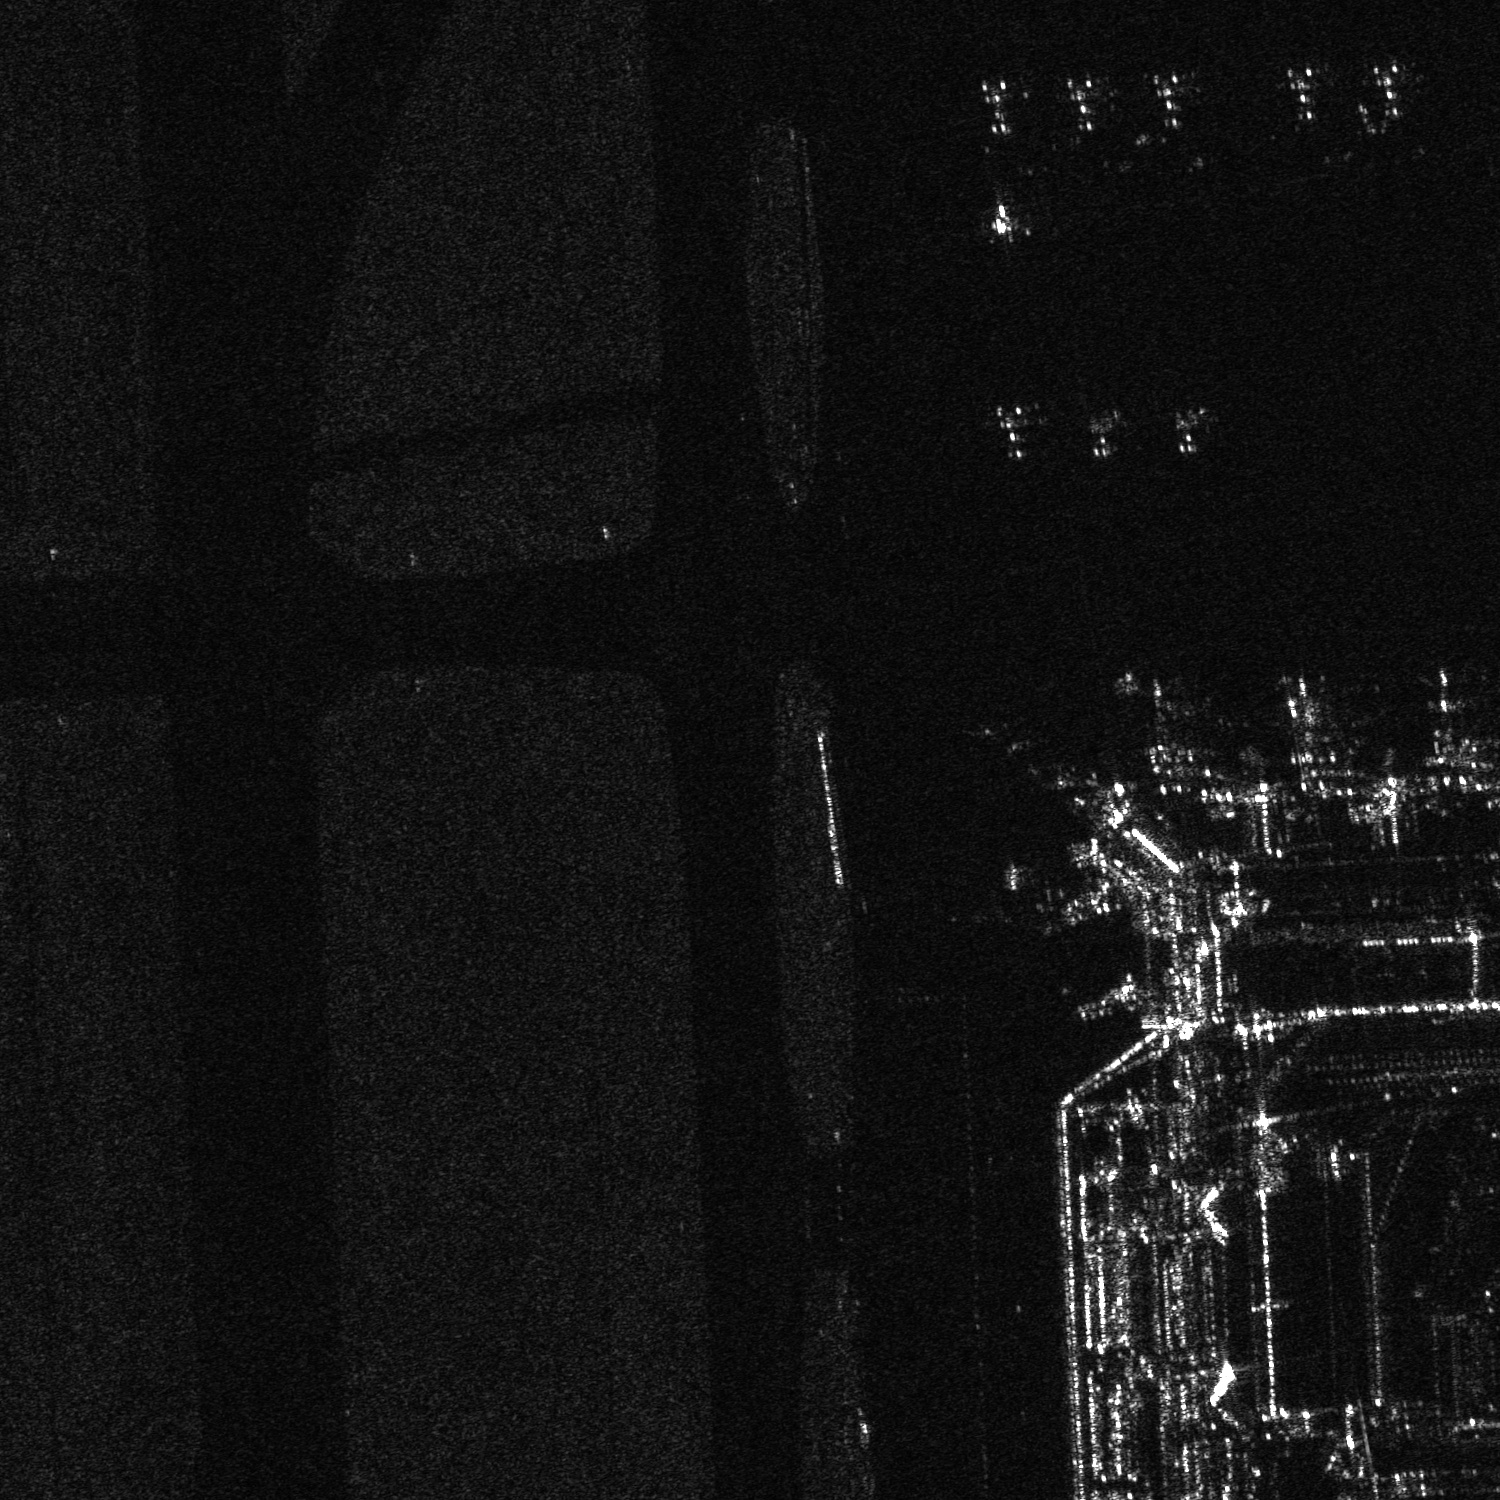A220: (1272, 668, 1338, 747), (1076, 400, 1126, 462)
A320/321: (1161, 400, 1216, 457)
ARJ21: (977, 396, 1045, 464), (973, 192, 1027, 249)
Boeing787: (1412, 663, 1479, 738)
other: (1352, 55, 1422, 125), (1137, 63, 1201, 139), (1124, 668, 1190, 738), (968, 71, 1029, 139), (1056, 65, 1109, 139), (1275, 59, 1324, 129)
